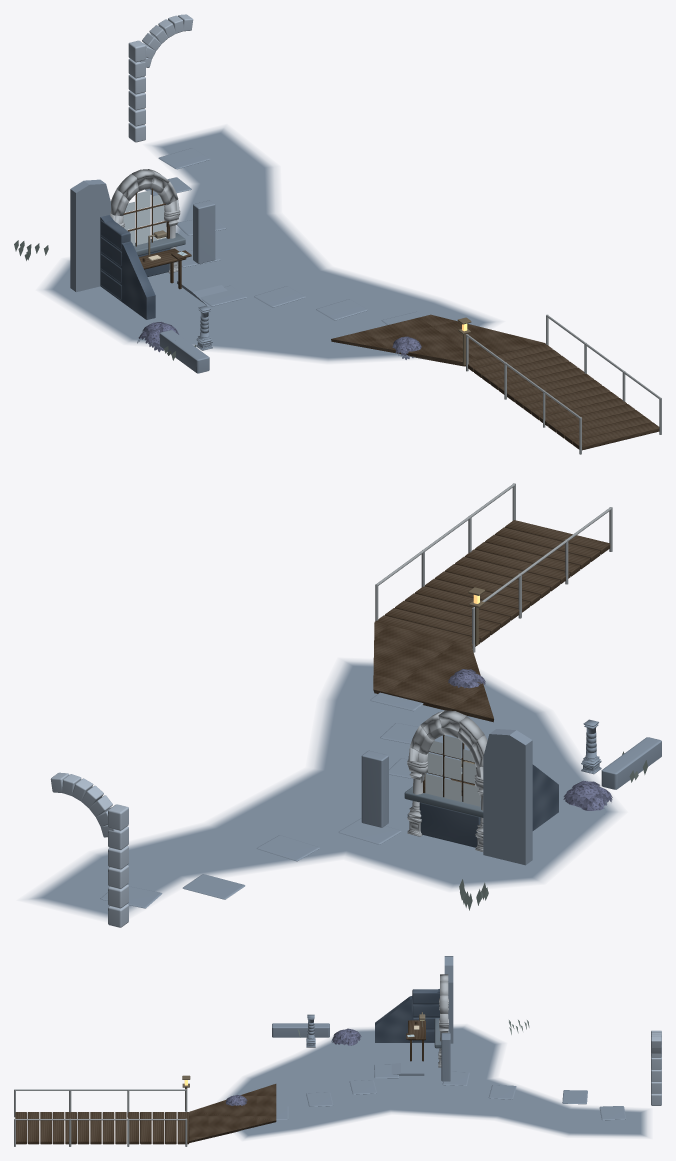
File: receiving-edge-fade.glb
The picture shows the model from 3 angles, top to bottom: view 1: azimuth 30°, elevation 25°; view 2: azimuth 150°, elevation 25°; view 3: azimuth 270°, elevation 25°; orthographic projection. The views are drawn at different scales.
Visible parts, largest first — view 1: Continuous stone landing core, Continuous stone landing feathered edge, Slanted threshold landing, Tall left wall remnant, Arch_Round_RoundColumn, Descending side fragment, Right shallow return, Near threshold low remnant, Bridge plank.013, Bridge plank.010, Bridge plank.011, Bridge plank.012 (+13 smaller); view 2: Continuous stone landing core, Continuous stone landing feathered edge, Slanted threshold landing, Tall left wall remnant, Arch_Round_RoundColumn, Right shallow return, Window lower wall, Near threshold low remnant, Descending side fragment, Bush_Round.001, Bridge plank.013, Bridge plank.008 (+17 smaller); view 3: Continuous stone landing core, Continuous stone landing feathered edge, Slanted threshold landing, Descending side fragment, Near threshold low remnant, Arch_Round_RoundColumn, Tall left wall remnant, Right shallow return, Bridge plank.002, Bridge plank.006, Bridge plank.008, Bridge plank.010 (+24 smaller).
Boxes of the visible parts, x1,y1,x2,y2 form: Continuous stone landing core: (53, 133, 483, 357); Continuous stone landing feathered edge: (40, 126, 500, 362); Slanted threshold landing: (331, 314, 544, 366); Tall left wall remnant: (70, 179, 110, 292); Arch_Round_RoundColumn: (110, 169, 180, 273); Descending side fragment: (100, 215, 155, 319); Right shallow return: (193, 200, 215, 263); Near threshold low remnant: (159, 330, 209, 373); Bridge plank.013: (573, 422, 659, 450); Bridge plank.010: (548, 404, 635, 432); Bridge plank.011: (556, 410, 643, 438); Bridge plank.012: (565, 416, 651, 444); Continuous stone landing core: (44, 666, 606, 913); Continuous stone landing feathered edge: (22, 659, 622, 920); Slanted threshold landing: (373, 622, 493, 722); Tall left wall remnant: (483, 729, 532, 865); Arch_Round_RoundColumn: (407, 710, 487, 851); Right shallow return: (361, 750, 388, 827); Window lower wall: (419, 802, 480, 847); Near threshold low remnant: (601, 737, 661, 789); Descending side fragment: (532, 764, 558, 830); Bush_Round.001: (563, 780, 612, 810); Bridge plank.013: (505, 520, 610, 554); Bridge plank.008: (455, 556, 560, 591); Continuous stone landing core: (236, 1029, 640, 1135); Continuous stone landing feathered edge: (219, 1025, 649, 1139); Slanted threshold landing: (189, 1084, 276, 1142); Descending side fragment: (375, 989, 439, 1042); Near threshold low remnant: (272, 1023, 329, 1037); Arch_Round_RoundColumn: (438, 974, 449, 1067); Tall left wall remnant: (444, 956, 453, 1043); Right shallow return: (441, 1033, 450, 1081); Bridge plank.002: (152, 1112, 164, 1144); Bridge plank.006: (102, 1112, 114, 1144); Bridge plank.008: (77, 1112, 89, 1144); Bridge plank.010: (52, 1112, 64, 1144).
Size of the model in its own units: 9.84 by 3.55 by 22.33.
Materials: 29 (6 with a texture image).
